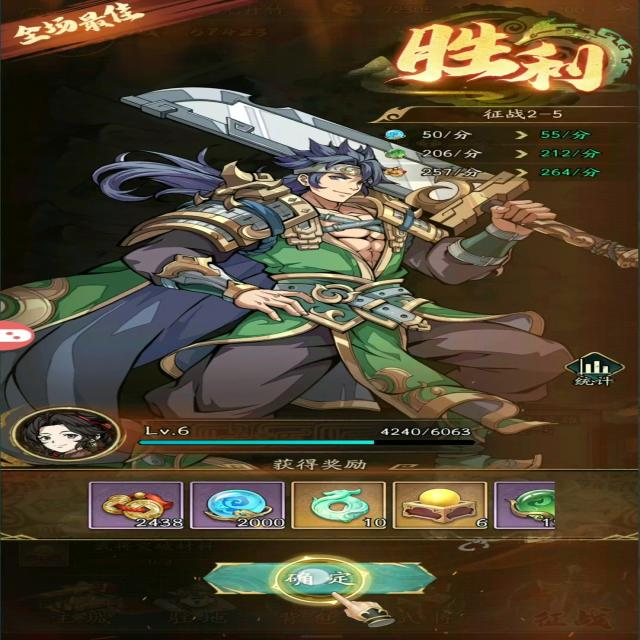hint-guide: (268, 548, 364, 612)
operation-confirm: (188, 558, 442, 599)
operation-statistics: (555, 347, 626, 390)
